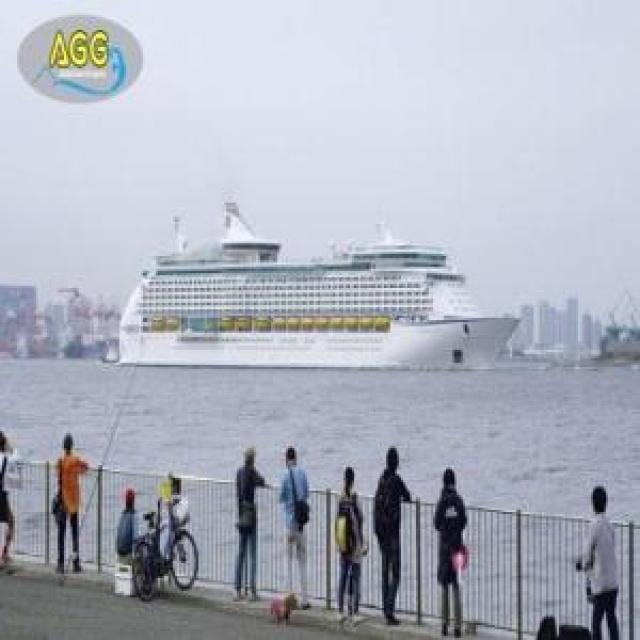passenger ship: (99, 203, 505, 368)
